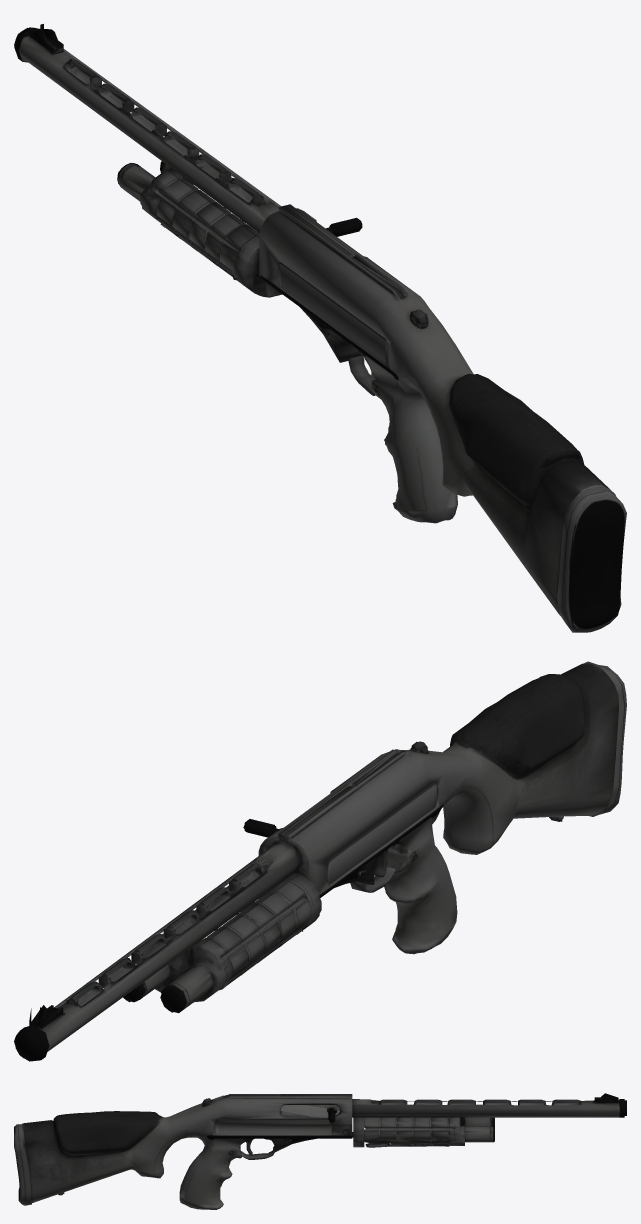
File: shotgun.glb
3 renders of one model, top to bottom at view 1: azimuth 30°, elevation 25°; view 2: azimuth 150°, elevation 25°; view 3: azimuth 270°, elevation 25°, orthographic. The views are drawn at different scales.
Visible parts, largest first — view 1: furniture, body; view 2: furniture, body; view 3: furniture, body.
Part boxes in pixels (x1,y1,x2,y2): furniture: (172,184,626,632); body: (14,24,447,346); furniture: (187,661,626,969); body: (14,741,447,1061); furniture: (14,1103,440,1209); body: (191,1093,626,1146).
Bounding box in the file's own units: 0.0976 × 0.2132 × 1.02.
2 materials, 2 textured.
